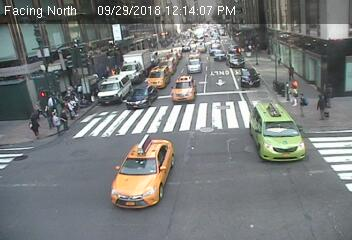car: (114, 136, 173, 209), (248, 102, 306, 160), (119, 51, 150, 80), (96, 78, 128, 104), (126, 84, 159, 108), (173, 75, 195, 102), (147, 65, 168, 87), (238, 68, 261, 88), (160, 54, 177, 73), (226, 51, 244, 68), (186, 57, 202, 73), (213, 49, 226, 60), (196, 41, 207, 53), (188, 48, 200, 58), (209, 42, 219, 50)
